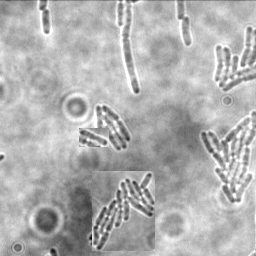Dividing: (123, 1, 142, 95), (41, 8, 52, 35)
Microcolony: (200, 109, 255, 205), (92, 171, 155, 251), (212, 25, 255, 94), (96, 103, 132, 150), (182, 16, 193, 48)
Rod: (79, 128, 109, 147)
